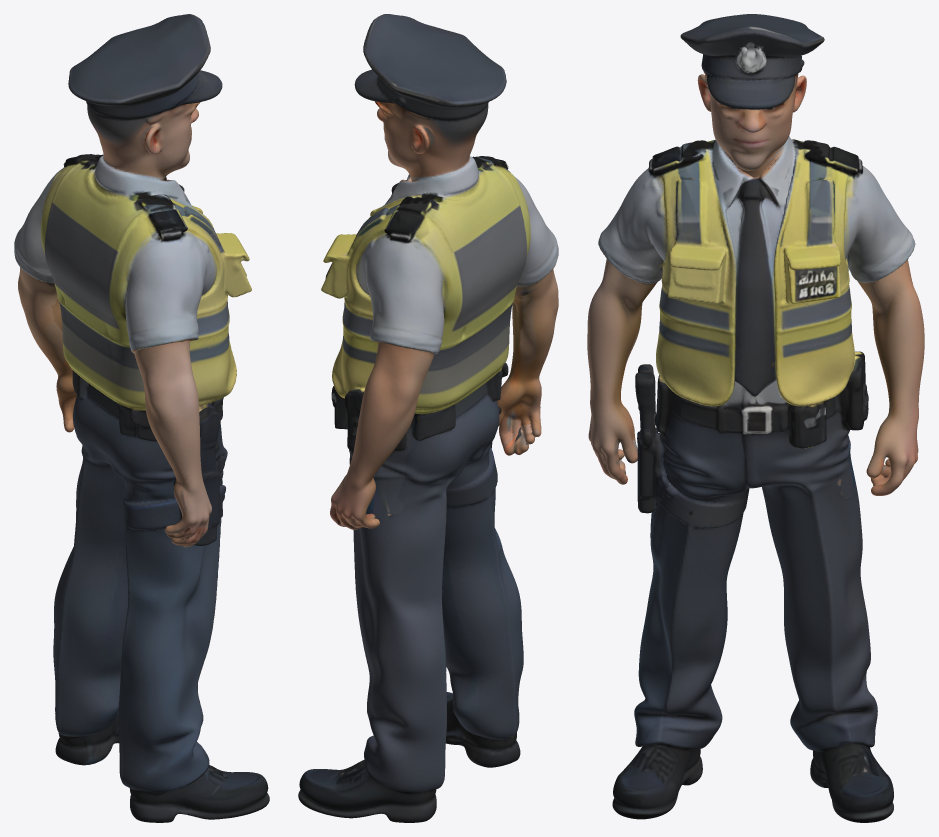
The picture shows the model from 3 angles, left to right: view 1: azimuth 30°, elevation 25°; view 2: azimuth 150°, elevation 25°; view 3: azimuth 270°, elevation 25°; orthographic projection. The views are drawn at different scales.
Parts seen in each view (by area): view 1: tripo_node_26a12c3a-0a2e-4fd8-adb2-7ae4e3701fdc; view 2: tripo_node_26a12c3a-0a2e-4fd8-adb2-7ae4e3701fdc; view 3: tripo_node_26a12c3a-0a2e-4fd8-adb2-7ae4e3701fdc.
Boxes of the visible parts, left/top/right/bottom form: tripo_node_26a12c3a-0a2e-4fd8-adb2-7ae4e3701fdc: left=14, top=14, right=269, bottom=822; tripo_node_26a12c3a-0a2e-4fd8-adb2-7ae4e3701fdc: left=298, top=14, right=558, bottom=822; tripo_node_26a12c3a-0a2e-4fd8-adb2-7ae4e3701fdc: left=587, top=14, right=924, bottom=822.
Bounding box in the file's own units: 0.2095 × 1 × 0.387.
1 material, 1 textured.
